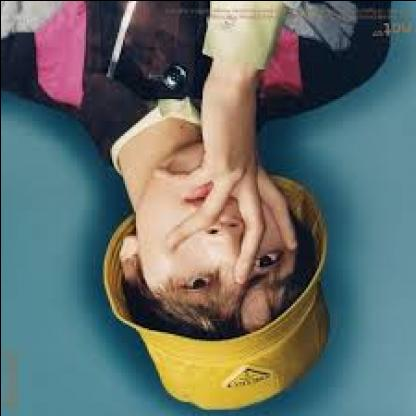hat: (102, 170, 342, 412)
